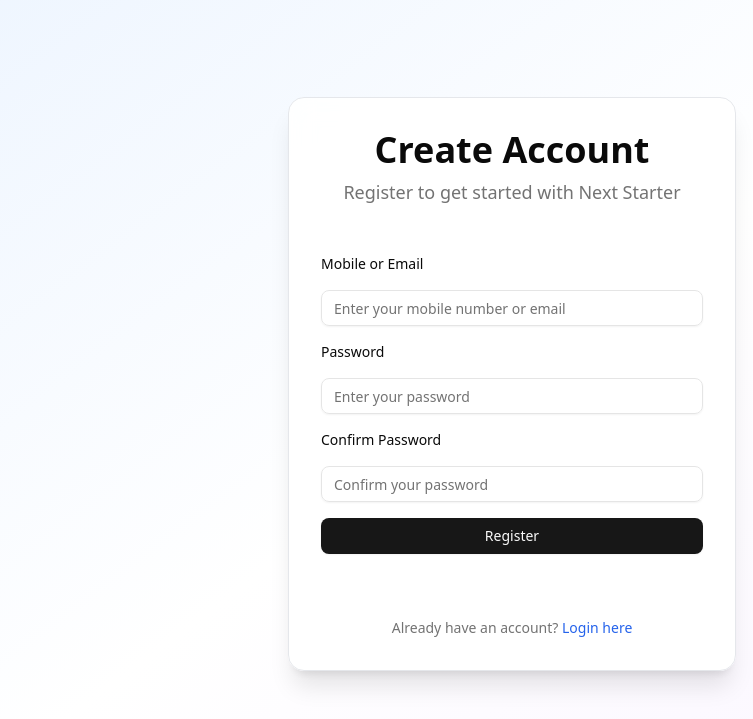
Test: RegisterPage › shows error for invalid email/phone format (frontend)
The width and height of the screenshot is (753, 719).
Type "notanemail" into the field with placeholder "Enter your mobile number or email" at (512, 308), box x1=321 y1=290 x2=703 y2=326
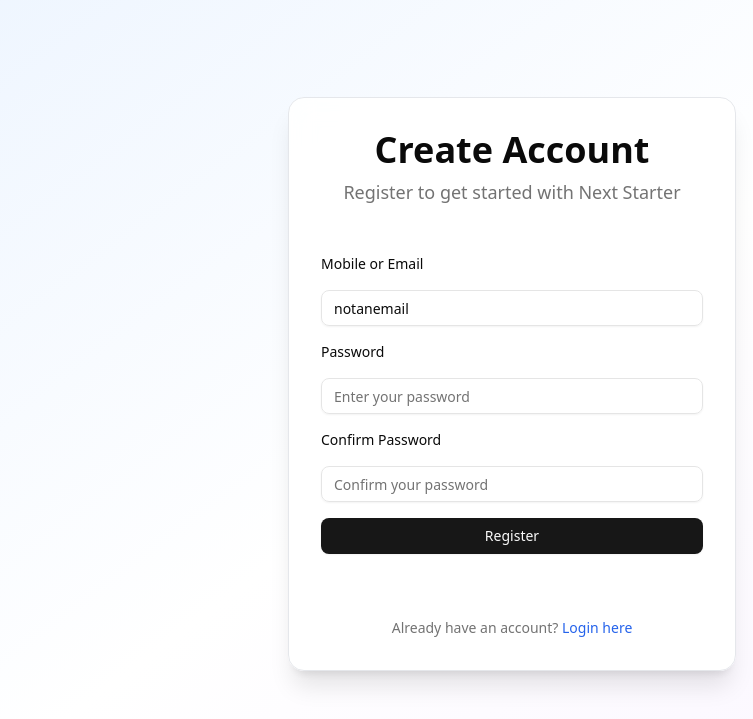
Type "Password1!" into the password field with placeholder "Enter your password" at (512, 396), box x1=321 y1=378 x2=703 y2=414
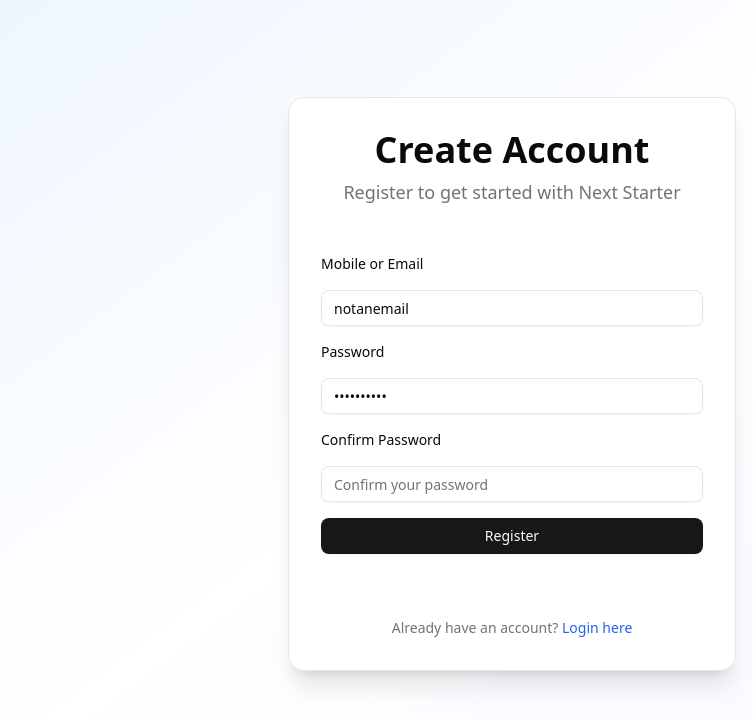
Type "Password1!" into the password field with placeholder "Confirm your password" at (512, 484), box x1=321 y1=466 x2=703 y2=502
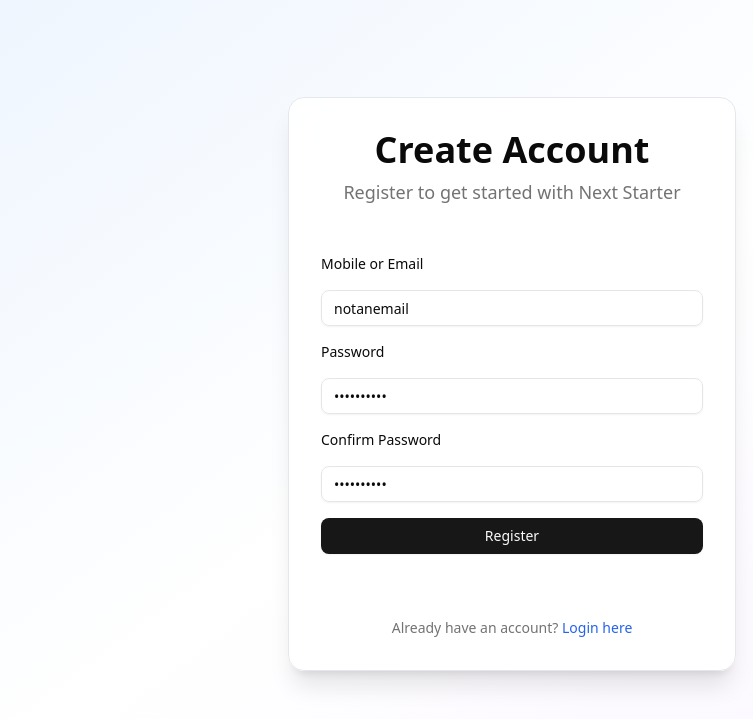
Click the button "Register" at (512, 536), box x1=321 y1=518 x2=703 y2=554
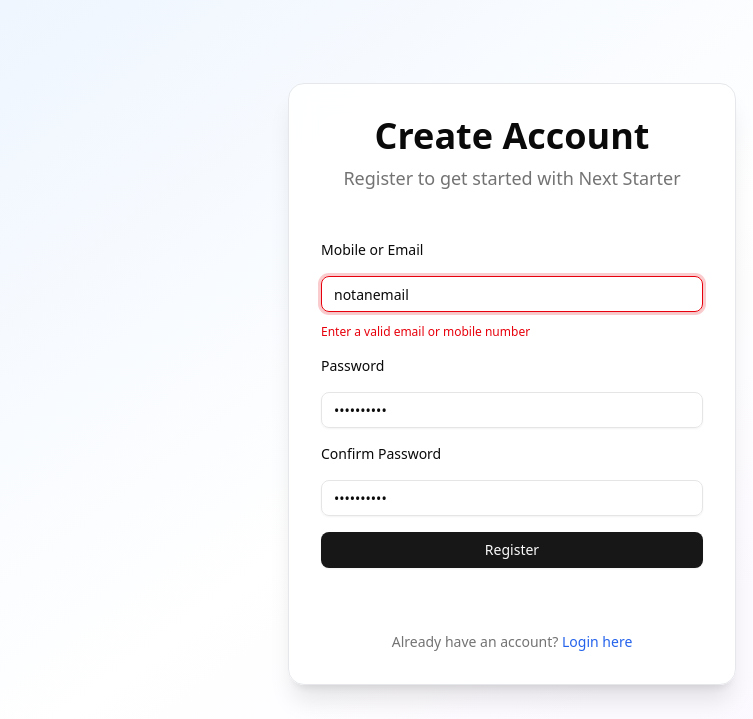
Expected: the text "Enter a valid email or mobile number" is shown, x1=321 y1=323 x2=530 y2=340
